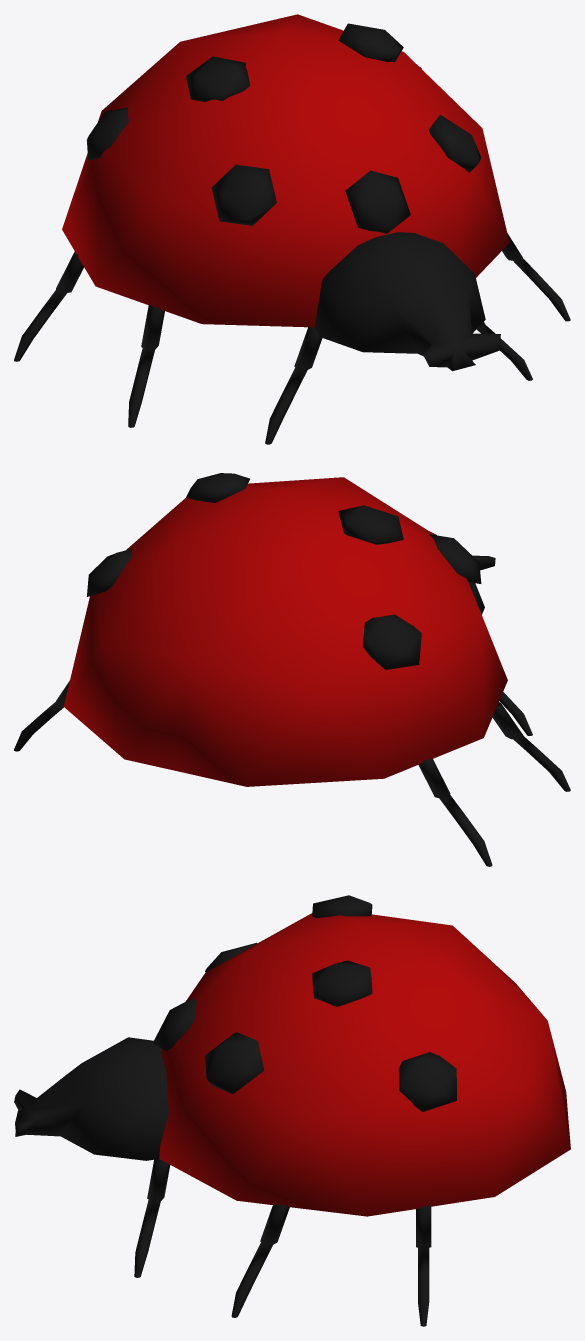
Rendered from LadybugSample.obj.
The picture shows the model from 3 angles, top to bottom: view 1: azimuth 30°, elevation 25°; view 2: azimuth 150°, elevation 25°; view 3: azimuth 270°, elevation 25°; orthographic projection. The views are drawn at different scales.
Parts seen in each view (by area): view 1: 001_Buffer_Layer, 000_Buffer_Layer; view 2: 001_Buffer_Layer, 000_Buffer_Layer; view 3: 001_Buffer_Layer, 000_Buffer_Layer.
Boxes of the visible parts, box(x1,y1,x2,y2) form: 001_Buffer_Layer: box(62, 14, 509, 327); 000_Buffer_Layer: box(14, 23, 570, 444); 001_Buffer_Layer: box(63, 477, 507, 786); 000_Buffer_Layer: box(14, 473, 570, 866); 001_Buffer_Layer: box(159, 913, 570, 1216); 000_Buffer_Layer: box(14, 895, 456, 1326).
Size of the model in its own units: 246 by 145 by 253.
